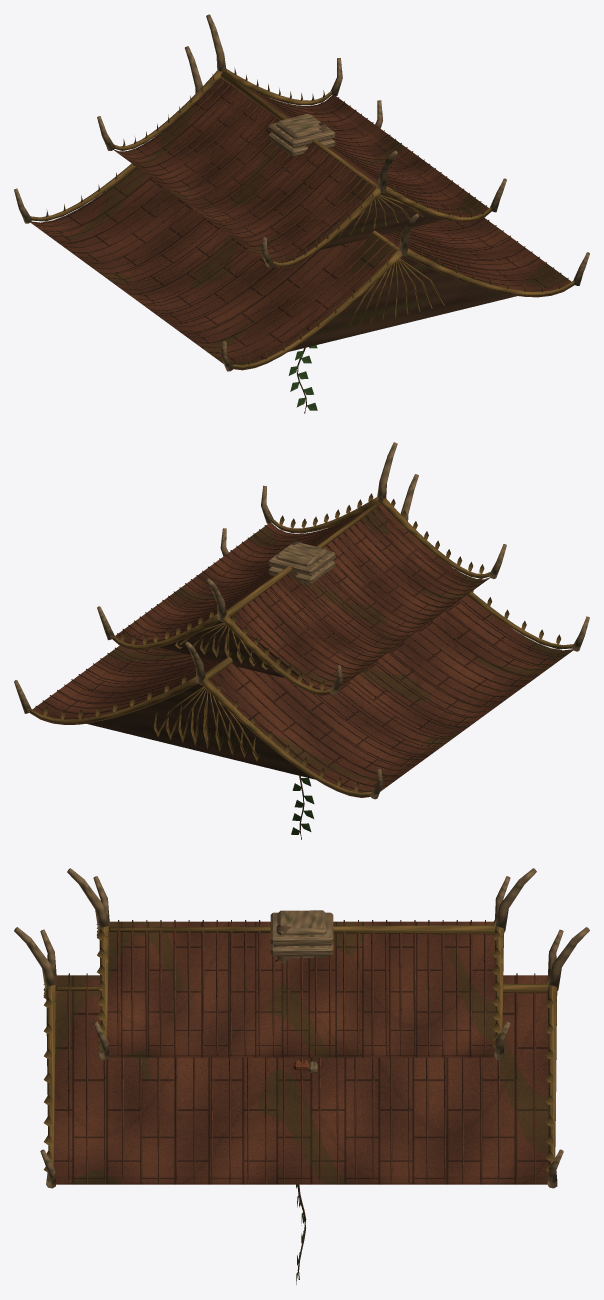
The model's file is sanctuary-kit.glb.
3 views of the same model, one above another, from view 1: azimuth 30°, elevation 25°; view 2: azimuth 150°, elevation 25°; view 3: azimuth 270°, elevation 25° (orthographic). The views are drawn at different scales.
Parts seen in each view (by area): view 1: voting_roof, root_column, hanging_vine; view 2: voting_roof, root_column, hanging_vine; view 3: voting_roof, root_column.
Part boxes in pixels (x1,y1,x2,y2): voting_roof: (14, 14, 589, 371); root_column: (268, 114, 335, 156); hanging_vine: (288, 345, 317, 413); voting_roof: (14, 442, 589, 799); root_column: (268, 540, 335, 584); hanging_vine: (291, 776, 314, 839); voting_roof: (14, 868, 589, 1188); root_column: (270, 910, 333, 963).
Bounding box in the file's own units: 8.92 × 7.68 × 9.77.
Materials: 2 (2 with a texture image).
